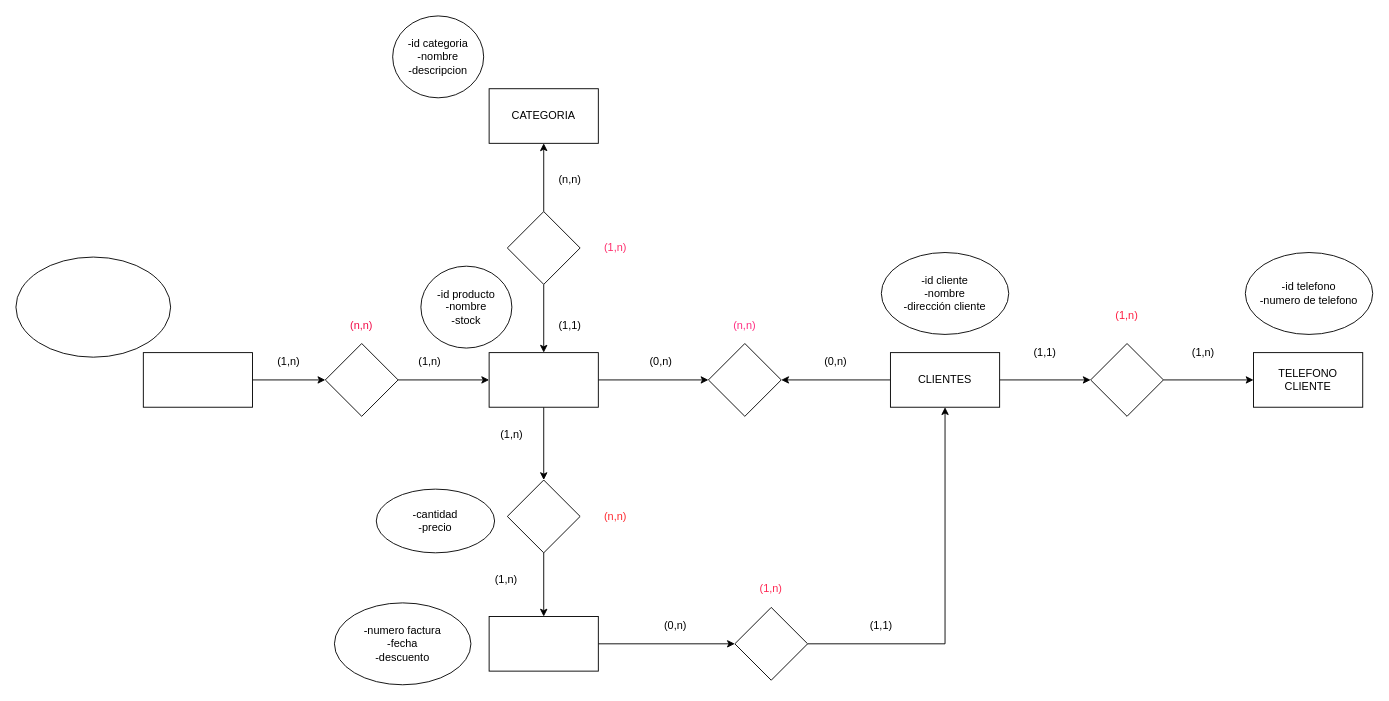
Some shapes in this 1389 by 701 pixel diagram are drawn without their labels. The centre of each missing label's shape, as x and y in pixels:
"-id proveedor -nombre -dirección proveedores -teléfono -pagina web" goes at point (93, 306).
"FACTURA" goes at point (543, 643).
"PRODUCTOS" goes at point (543, 379).
"PROVEEDORES" goes at point (197, 379).
